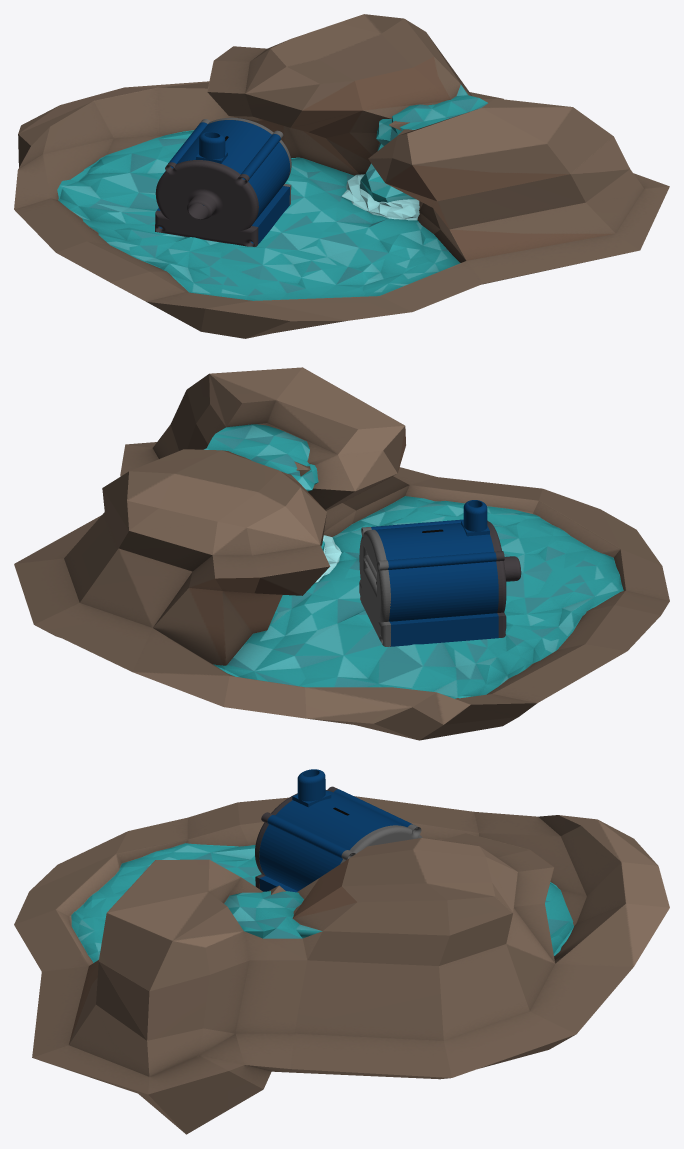
Rendered from pump.glb.
3 renders of one model, top to bottom at view 1: azimuth 30°, elevation 25°; view 2: azimuth 150°, elevation 25°; view 3: azimuth 270°, elevation 25°, orthographic. The views are drawn at different scales.
Parts seen in each view (by area): view 1: Waterfall_mesh, 9v_Water_Pump_-_Inlet_Cap; view 2: Waterfall_mesh, 9v_Water_Pump_-_Inlet_Cap; view 3: Waterfall_mesh, 9v_Water_Pump_-_Inlet_Cap.
Part boxes in pixels (<box>): Waterfall_mesh: <box>14,14,669,338</box>; 9v_Water_Pump_-_Inlet_Cap: <box>155,117,291,246</box>; Waterfall_mesh: <box>14,367,669,740</box>; 9v_Water_Pump_-_Inlet_Cap: <box>359,500,521,646</box>; Waterfall_mesh: <box>14,796,669,1134</box>; 9v_Water_Pump_-_Inlet_Cap: <box>255,769,422,892</box>.
Size of the model in its own units: 6.92 by 1.92 by 6.47.
Materials: 5 (1 with a texture image).
